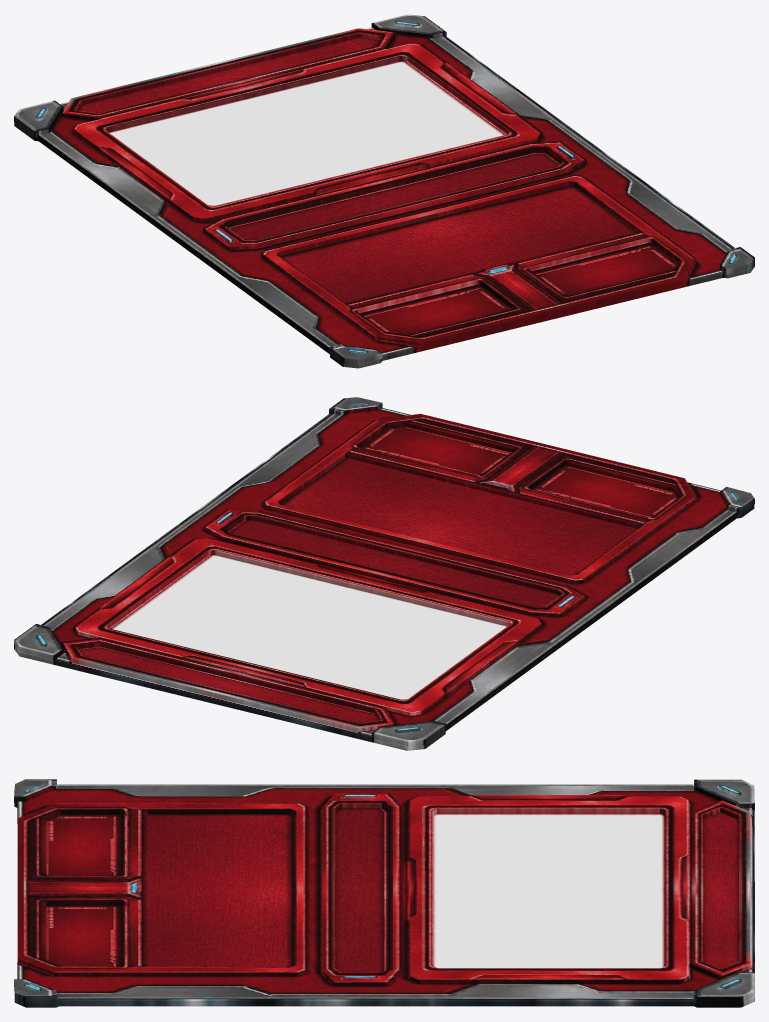
The model's file is crimson.glb.
3 views of the same model, one above another, from view 1: azimuth 30°, elevation 25°; view 2: azimuth 150°, elevation 25°; view 3: azimuth 270°, elevation 25° (orthographic). The views are drawn at different scales.
Visible parts, largest first — view 1: Card; view 2: Card; view 3: Card.
Boxes of the visible parts, x1,y1,x2,y2 form: Card: (14, 14, 754, 368); Card: (14, 397, 754, 750); Card: (14, 779, 754, 1007).
Bounding box in the file's own units: 0.0636 × 0.00166 × 0.0912.
8 materials, 8 textured.
